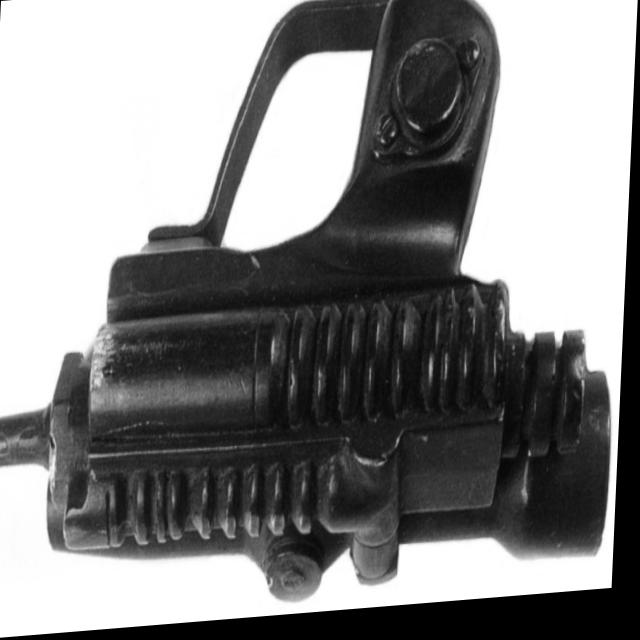handgun: (0, 0, 628, 625)
